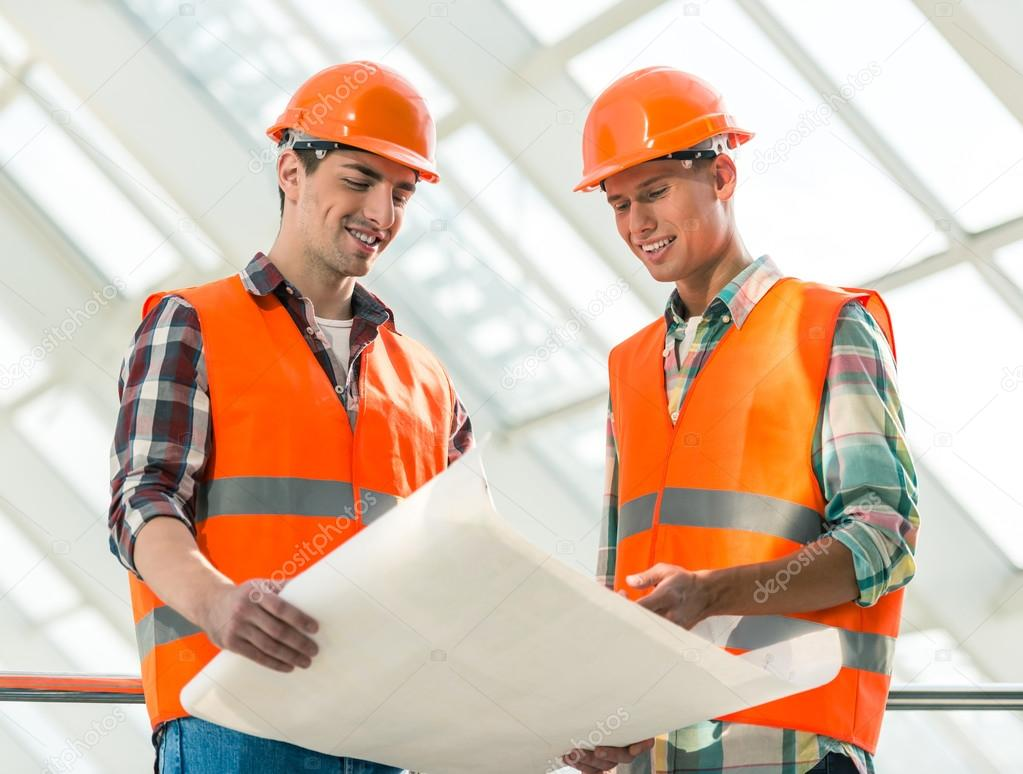casco: (575, 64, 756, 199), (264, 58, 442, 189)
